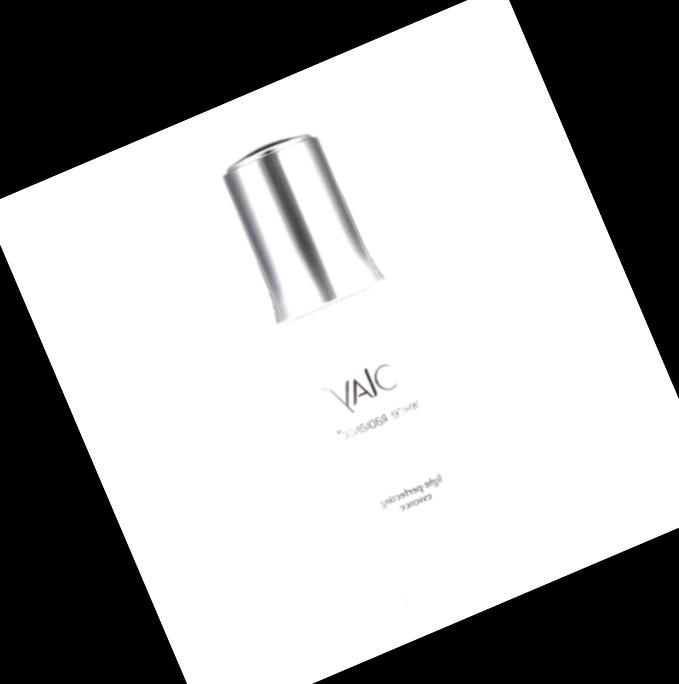cosmetic: (208, 119, 504, 600)
